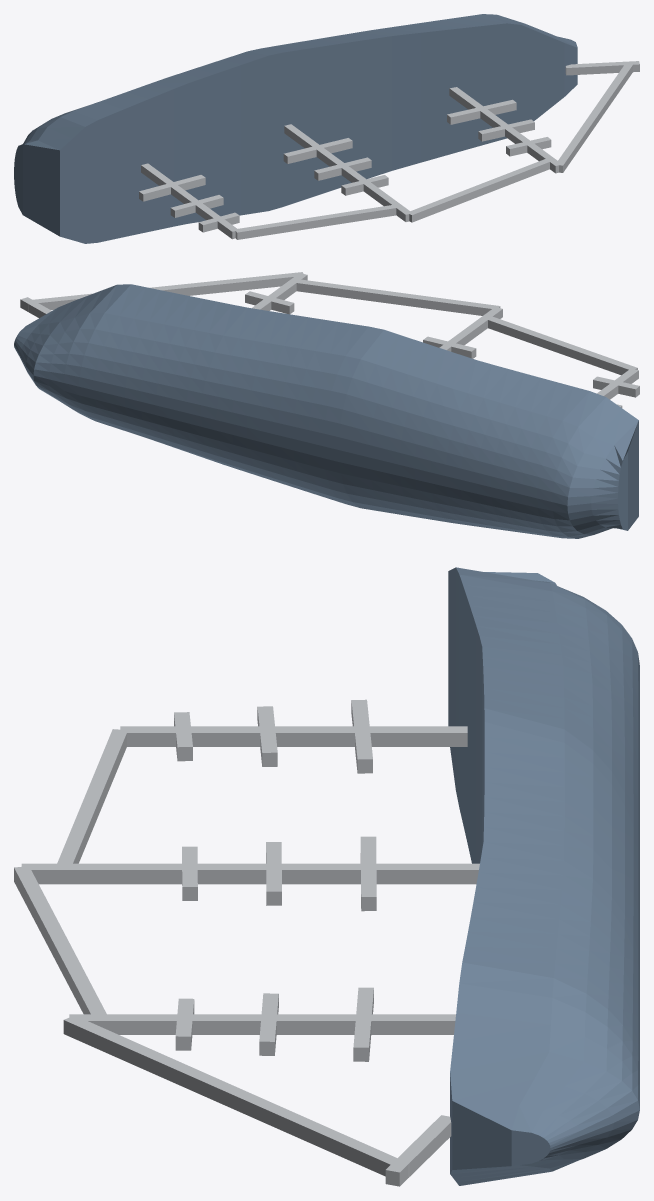
Rendered from loft-square-rigger-highside.glb.
The picture shows the model from 3 angles, top to bottom: view 1: azimuth 30°, elevation 25°; view 2: azimuth 150°, elevation 25°; view 3: azimuth 270°, elevation 25°; orthographic projection. The views are drawn at different scales.
Visible parts, largest first — view 1: loft-square-rigger-highside; view 2: loft-square-rigger-highside; view 3: loft-square-rigger-highside.
Boxes of the visible parts, x1,y1,x2,y2 form: loft-square-rigger-highside: (14, 14, 639, 243); loft-square-rigger-highside: (14, 272, 639, 538); loft-square-rigger-highside: (14, 567, 639, 1186).
Size of the model in its own units: 1.96 by 0.5036 by 0.9645.
